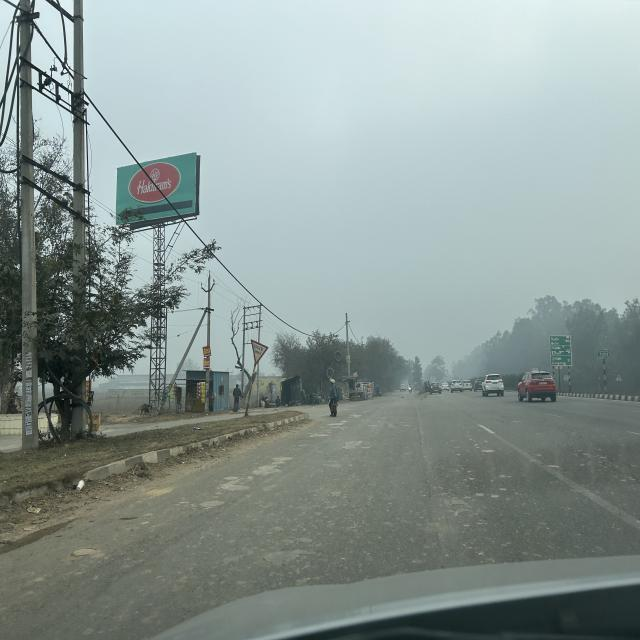GENERAL: (549, 335, 572, 366), (597, 348, 610, 359)
GIVE_WAY: (250, 339, 268, 365)
